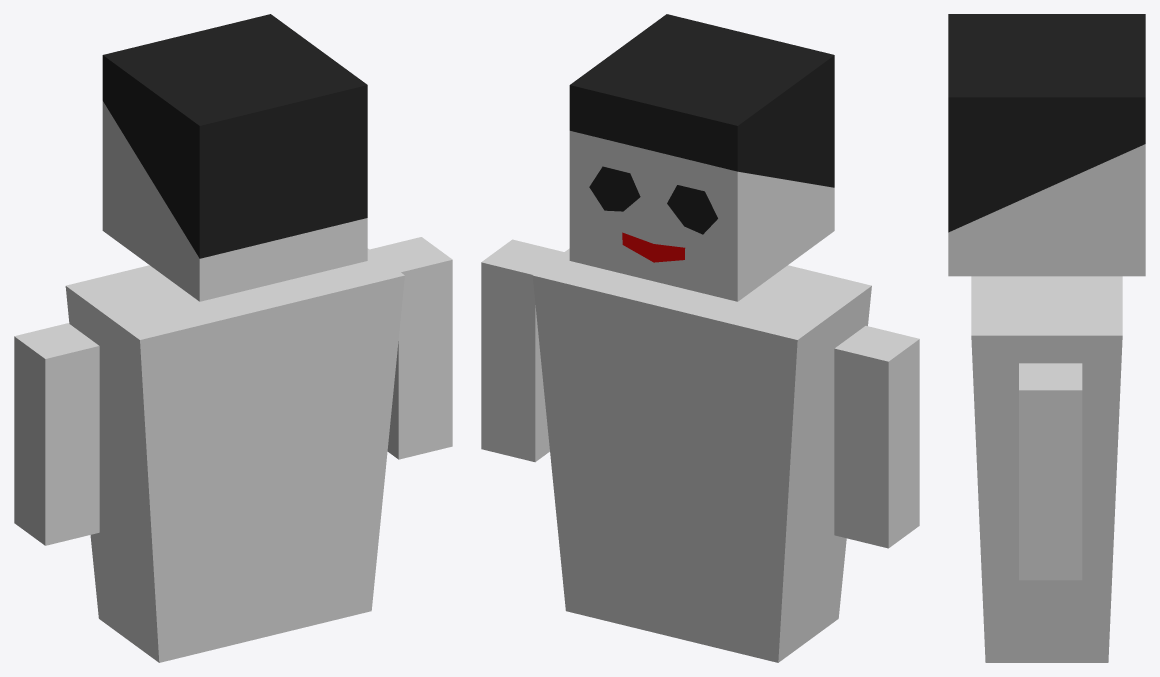
The model's file is player.fbx.
3 views of the same model, side by side, from view 1: azimuth 30°, elevation 25°; view 2: azimuth 150°, elevation 25°; view 3: azimuth 270°, elevation 25° (orthographic).
Parts seen in each view (by area): view 1: Player; view 2: Player; view 3: Player.
Boxes of the visible parts, left/top/right/bottom form: Player: left=14, top=14, right=452, bottom=662; Player: left=481, top=14, right=919, bottom=662; Player: left=948, top=14, right=1145, bottom=662.
Size of the model in its own units: 92.23 by 118 by 38.04.
